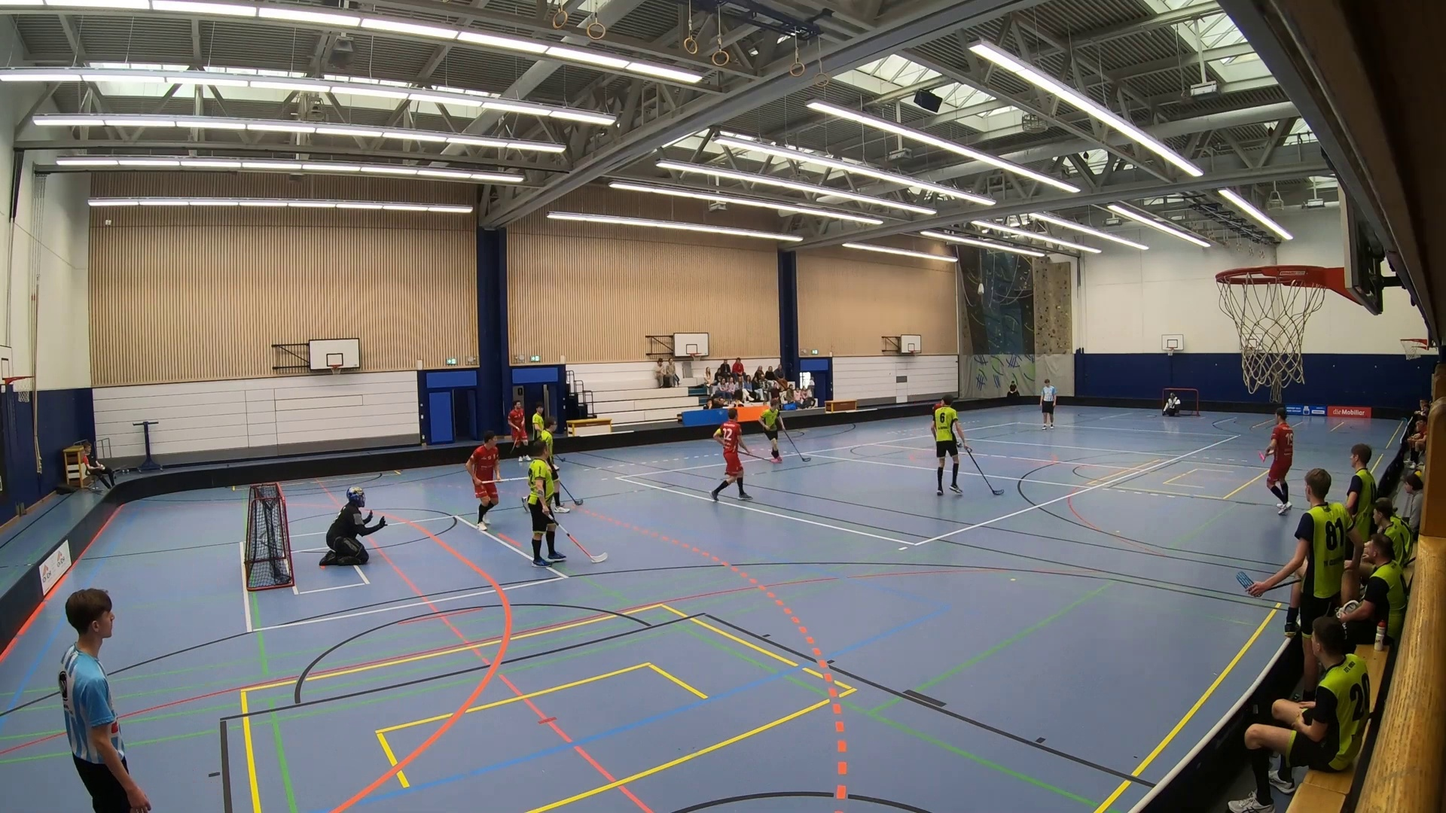Schiri: (26, 558, 163, 809), (1030, 374, 1059, 432)
goalkeeper: (301, 478, 394, 570), (1157, 386, 1184, 421)
player: (518, 429, 610, 579), (926, 391, 1014, 512), (750, 384, 820, 487), (1240, 402, 1298, 518), (703, 402, 753, 514), (459, 423, 506, 528), (539, 418, 581, 511), (501, 395, 530, 467), (528, 395, 543, 449), (930, 398, 947, 408)
